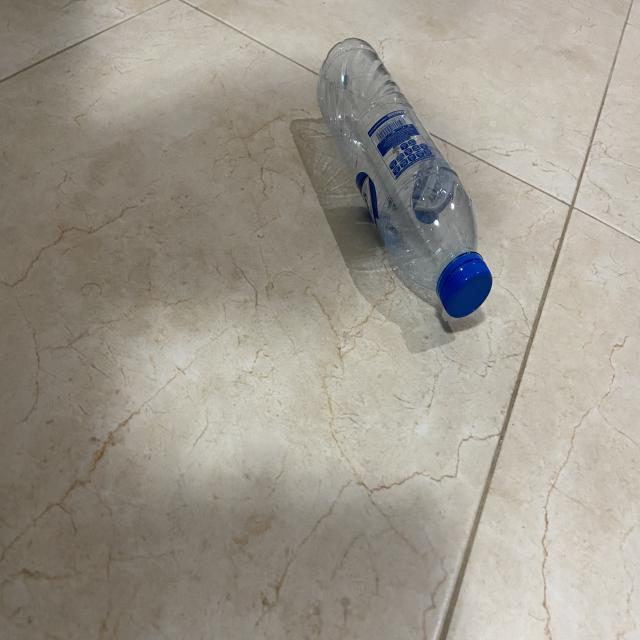bottle: (316, 30, 496, 334)
